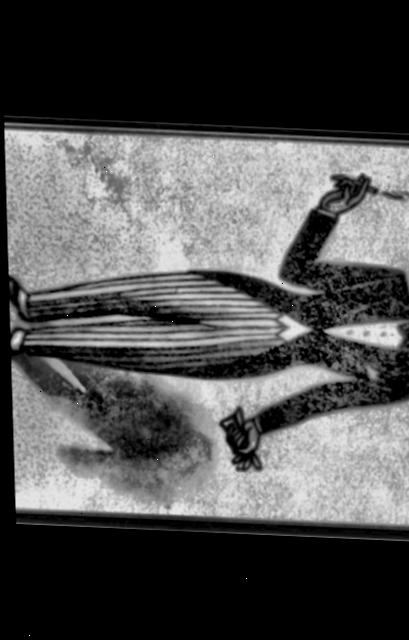El Catrin: (3, 127, 409, 519)
